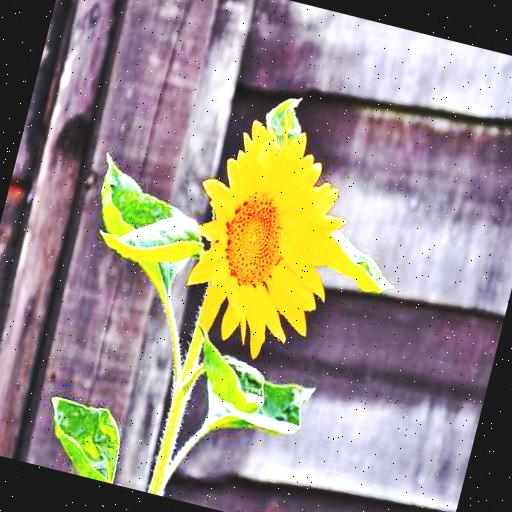sunflower: (172, 109, 359, 360)
